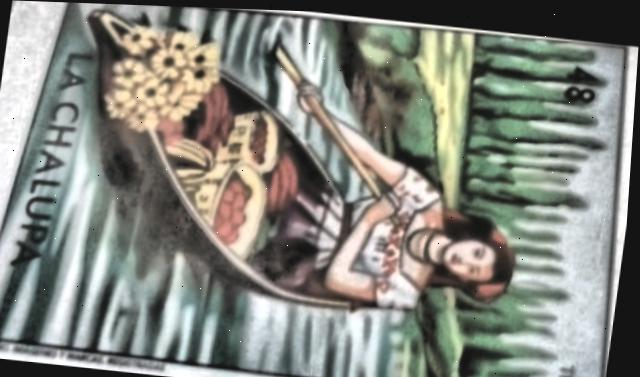La Chalupa: (0, 2, 628, 377)
